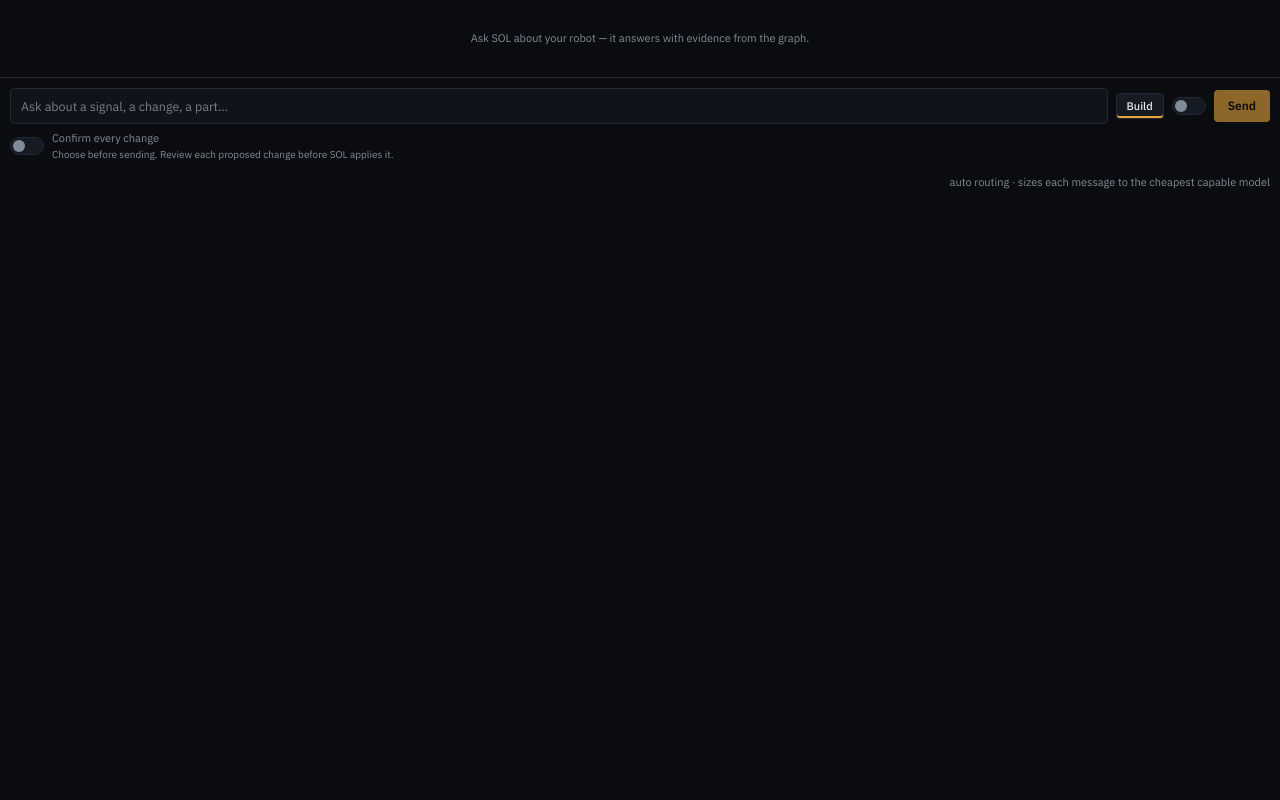
it: after an approved command › keeps the output and exit status under the message and resumes SOL
Type "build it" into the dropdown with placeholder "Ask about a signal, a change, a part…" at (559, 106), box 10,88 -> 1108,124
Then press Enter
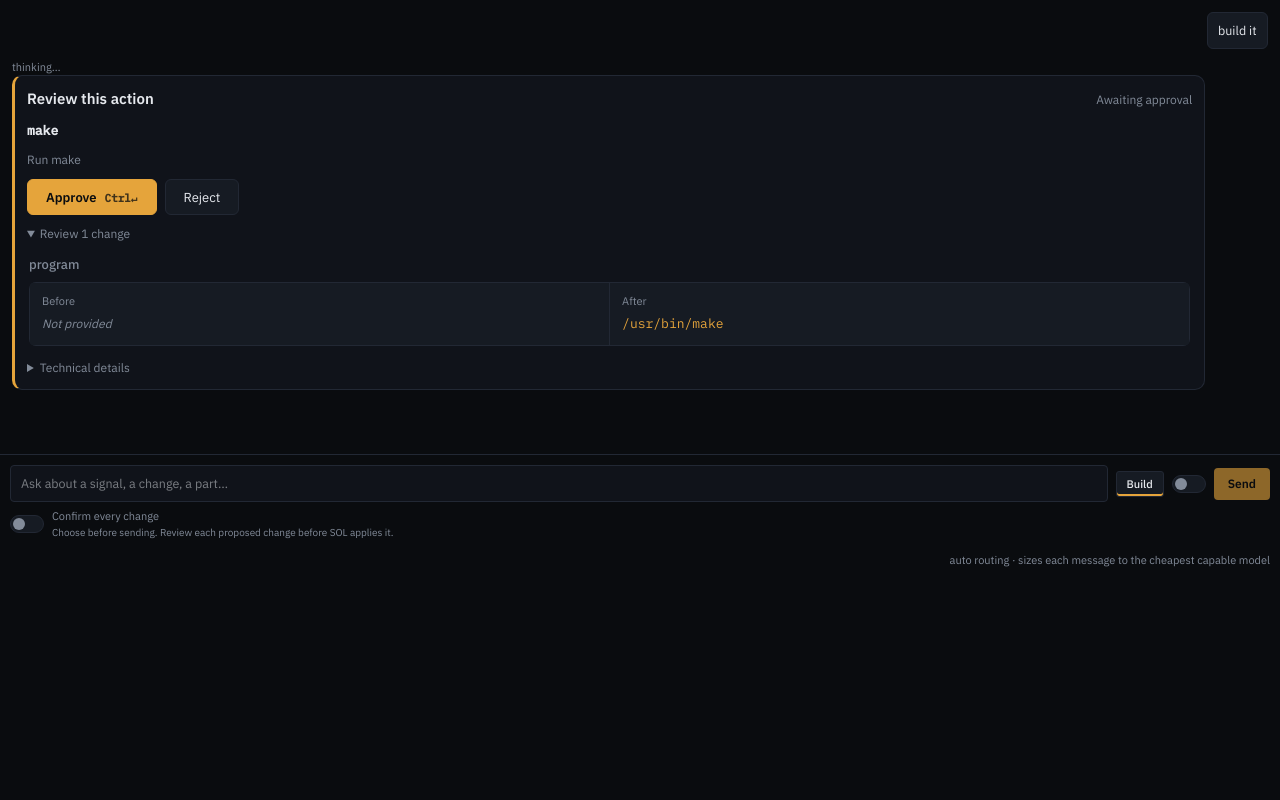
Click the button "Approve" at (92, 197), box 27,179 -> 157,215
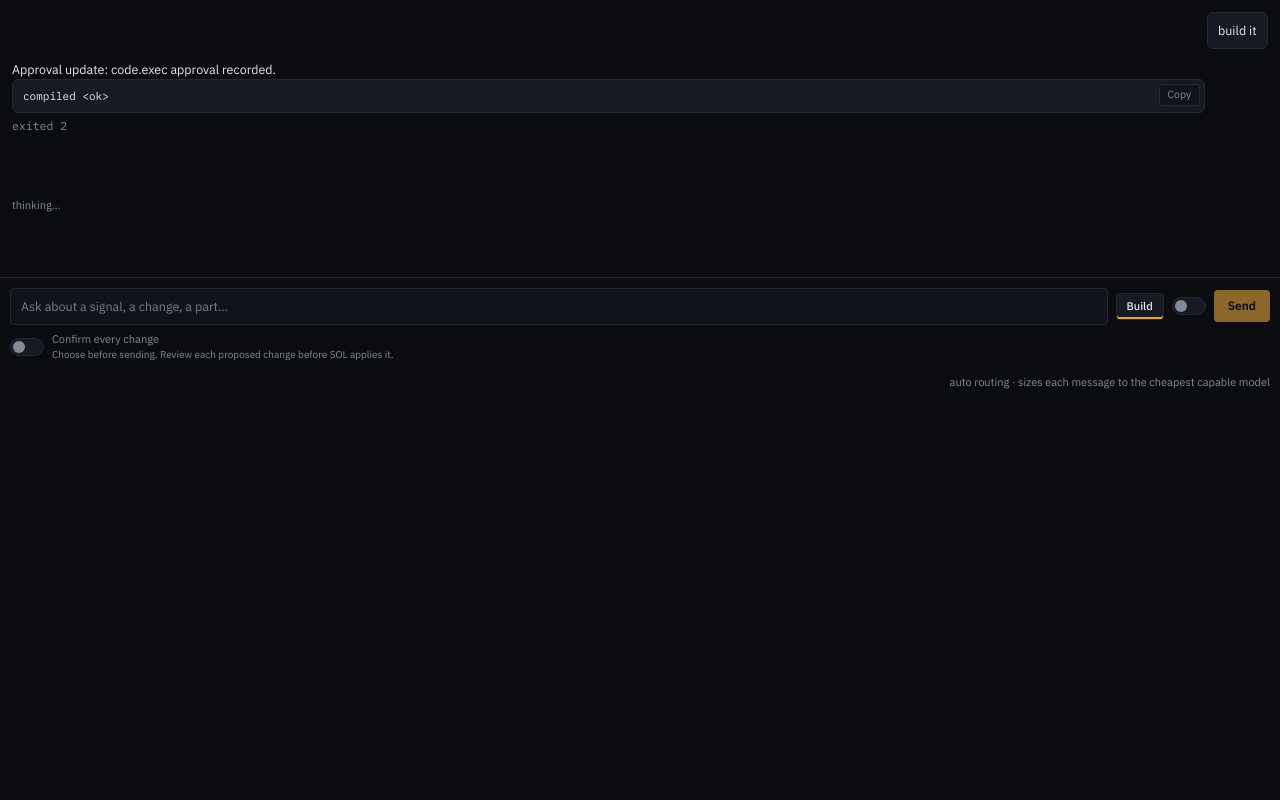
Expected: the text "build it" is shown once, 1207,12 -> 1268,49
Expected: the text "compiled <ok>" is shown, 23,89 -> 109,103
Expected: the text "exited 2" is shown, 12,118 -> 67,133
